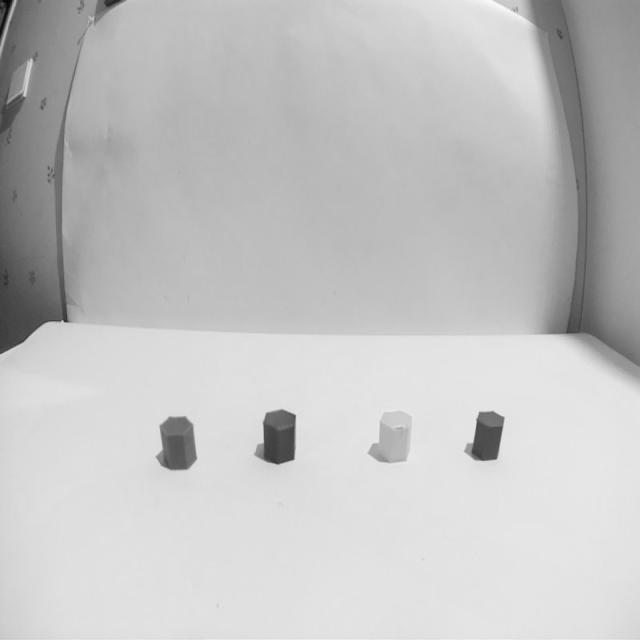hexagon: (157, 411, 199, 475), (260, 408, 299, 467), (377, 404, 414, 466), (469, 408, 507, 466)
